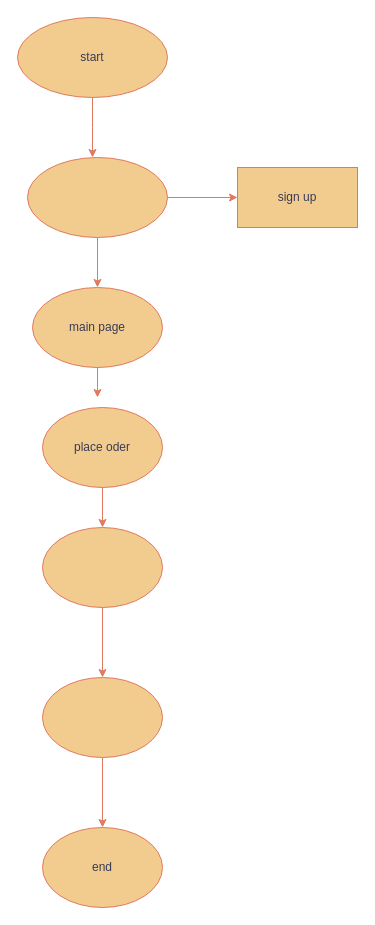
Image size: 375x925. Some labels were removed from this diagram. Here are the shapes that lost their labels. From the top down, the box of each, then its label:
(26, 156, 168, 238): login
(42, 526, 162, 608): make payment
(42, 676, 162, 758): feedbace
